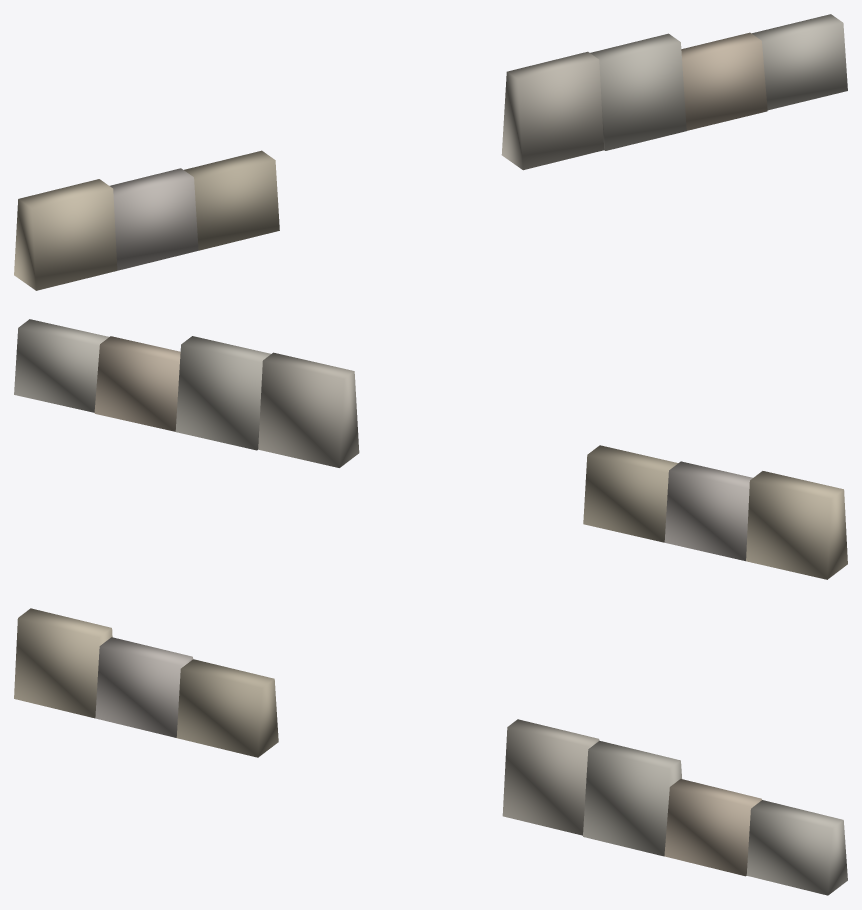
Rendered from farm_16_22_collision.glb.
3 views of the same model, one above another, from view 1: azimuth 30°, elevation 25°; view 2: azimuth 150°, elevation 25°; view 3: azimuth 330°, elevation 25° (orthographic).
Parts seen in each view (by area): view 1: geometry_0; view 2: geometry_0; view 3: geometry_0.
Boxes of the visible parts, x1,y1,x2,y2 form: geometry_0: (14, 14, 847, 290); geometry_0: (14, 319, 847, 579); geometry_0: (14, 608, 847, 895).
Size of the model in its own units: 14.54 by 1.53 by 0.8995.
